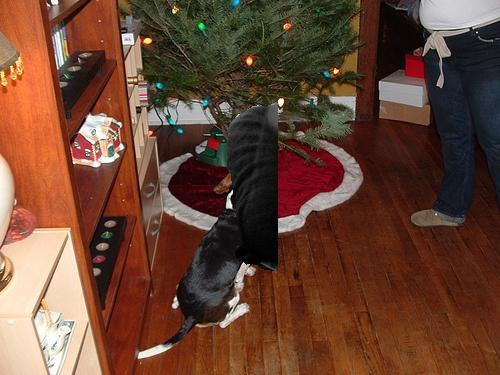tampered: (227, 103, 278, 271)
